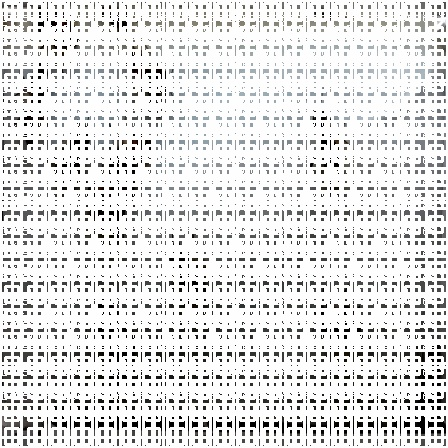bee: (285, 92, 359, 207), (74, 289, 144, 385), (113, 35, 189, 120), (150, 222, 219, 312), (298, 282, 371, 364), (98, 116, 168, 195), (44, 112, 102, 200), (8, 49, 56, 155), (399, 335, 448, 426), (81, 180, 139, 256), (20, 5, 86, 70)
